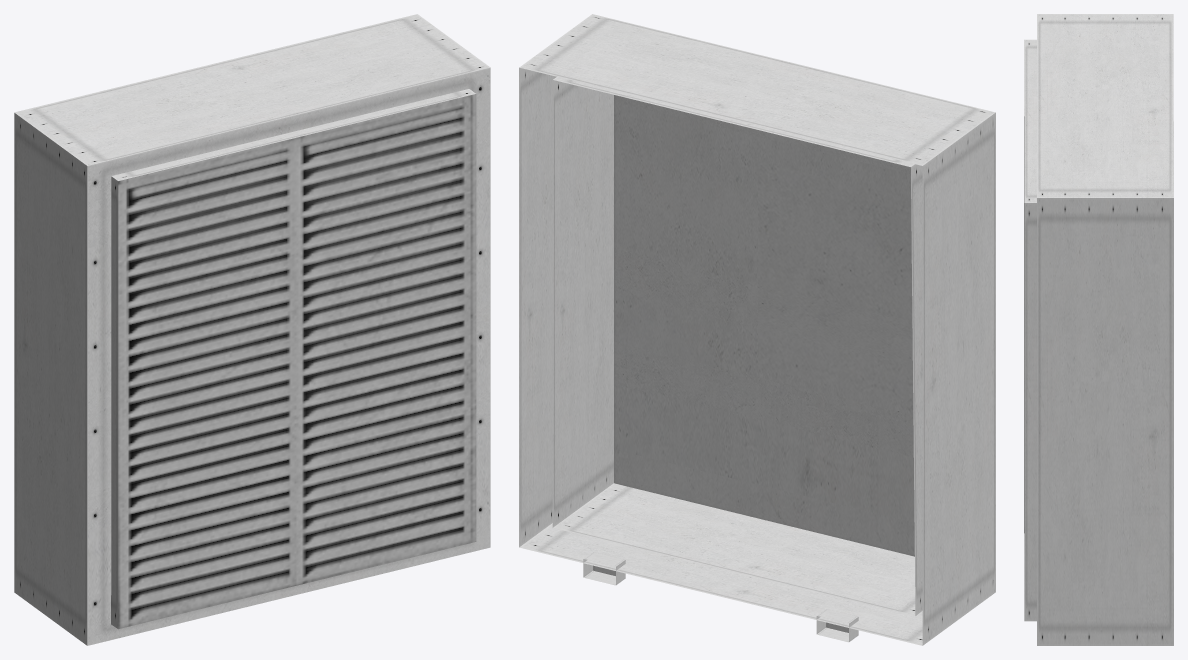
Rendered from d_vent_d.FBX.
The picture shows the model from 3 angles, left to right: view 1: azimuth 30°, elevation 25°; view 2: azimuth 150°, elevation 25°; view 3: azimuth 270°, elevation 25°; orthographic projection. The views are drawn at different scales.
Visible parts, largest first — view 1: DF_vent04; view 2: DF_vent04; view 3: DF_vent04.
Part boxes in pixels (x1,y1,x2,y2): DF_vent04: (14, 14, 490, 645); DF_vent04: (519, 14, 995, 645); DF_vent04: (1024, 14, 1173, 645).
Bounding box in the file's own units: 4.94 × 1.7 × 5.78.
Materials: 2 (2 with a texture image).
